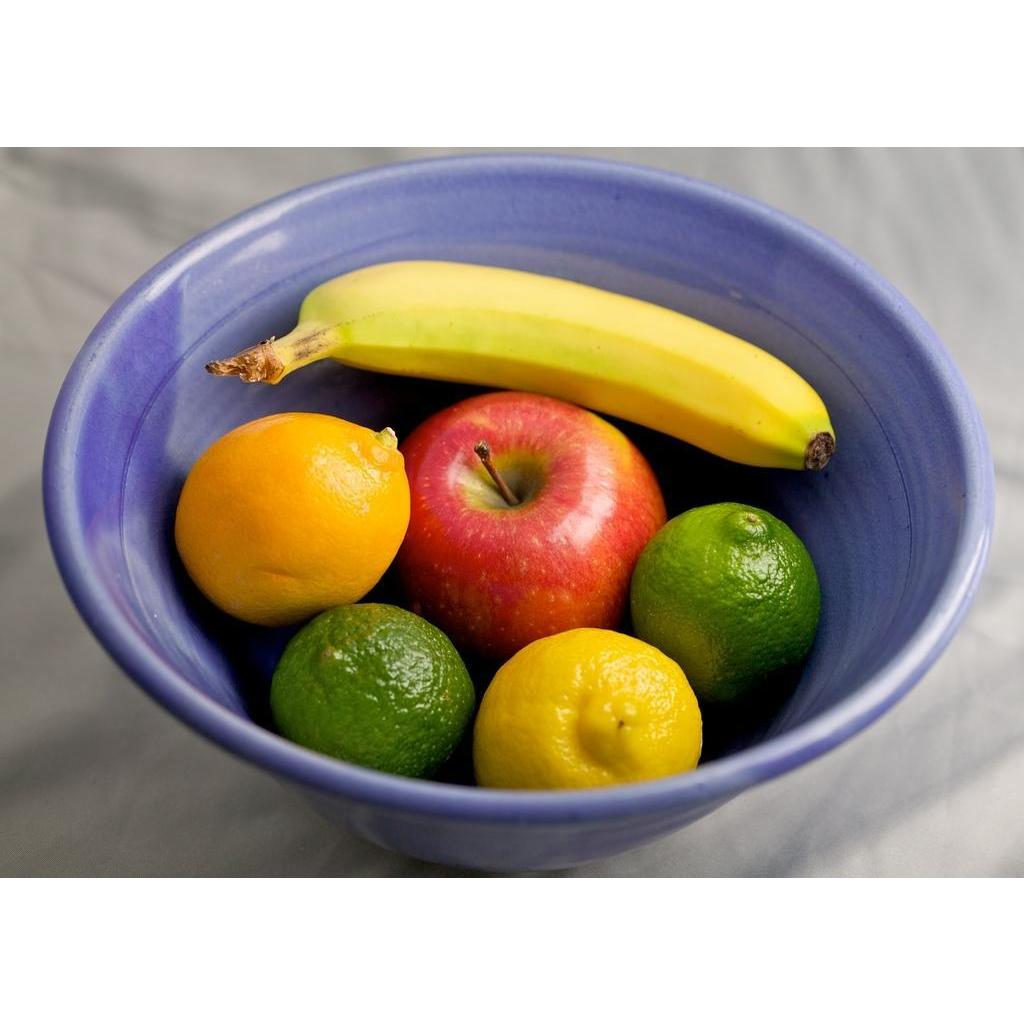apple: (388, 391, 670, 682)
banana: (295, 262, 837, 473)
